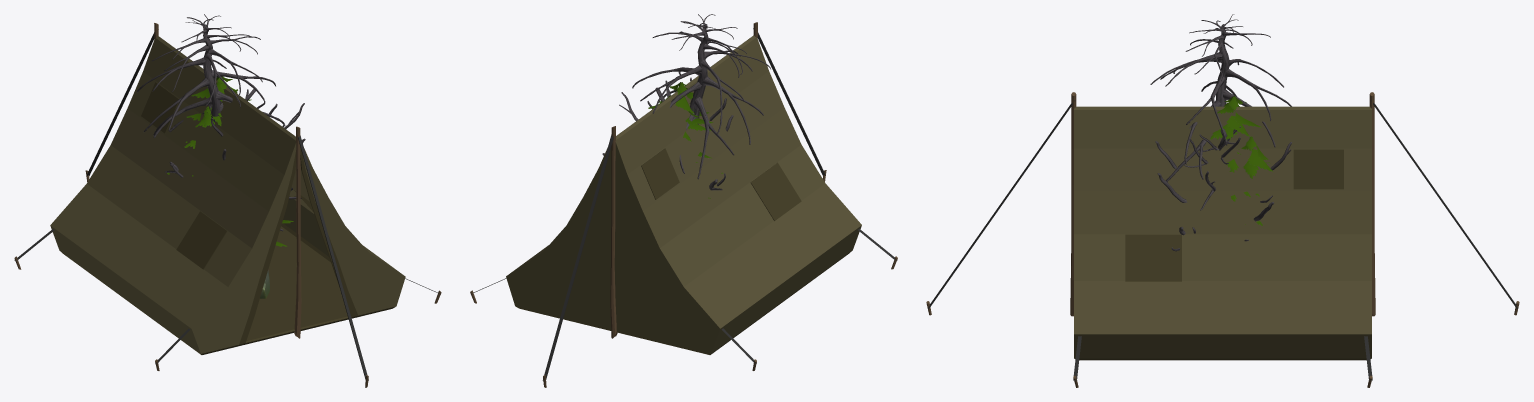
File: props.glb
3 renders of one model, left to right at view 1: azimuth 30°, elevation 25°; view 2: azimuth 150°, elevation 25°; view 3: azimuth 270°, elevation 25°, orthographic. The views are drawn at different scales.
Parts seen in each view (by area): view 1: Tent_Cylinder.020, DeadTree_3, Pine_4, DeadTree_1; view 2: Tent_Cylinder.020, DeadTree_3, Pine_4, DeadTree_1; view 3: Tent_Cylinder.020, DeadTree_3, DeadTree_1, Pine_4, Pine_5.
Boxes of the visible parts, box(x1,y1,x2,y2) form: Tent_Cylinder.020: box(14, 23, 441, 387); DeadTree_3: box(137, 14, 284, 138); Pine_4: box(184, 76, 251, 176); DeadTree_1: box(165, 89, 305, 231); Tent_Cylinder.020: box(470, 22, 897, 387); DeadTree_3: box(632, 14, 770, 179); Pine_4: box(648, 82, 723, 173); DeadTree_1: box(602, 77, 733, 190); Tent_Cylinder.020: box(926, 92, 1519, 387); DeadTree_3: box(1150, 14, 1291, 182); DeadTree_1: box(1155, 126, 1291, 251); Pine_4: box(1210, 95, 1270, 224); Pine_5: box(1229, 136, 1272, 225).
Size of the model in its own units: 14.58 by 14.41 by 24.87.
24 materials, 11 textured.
